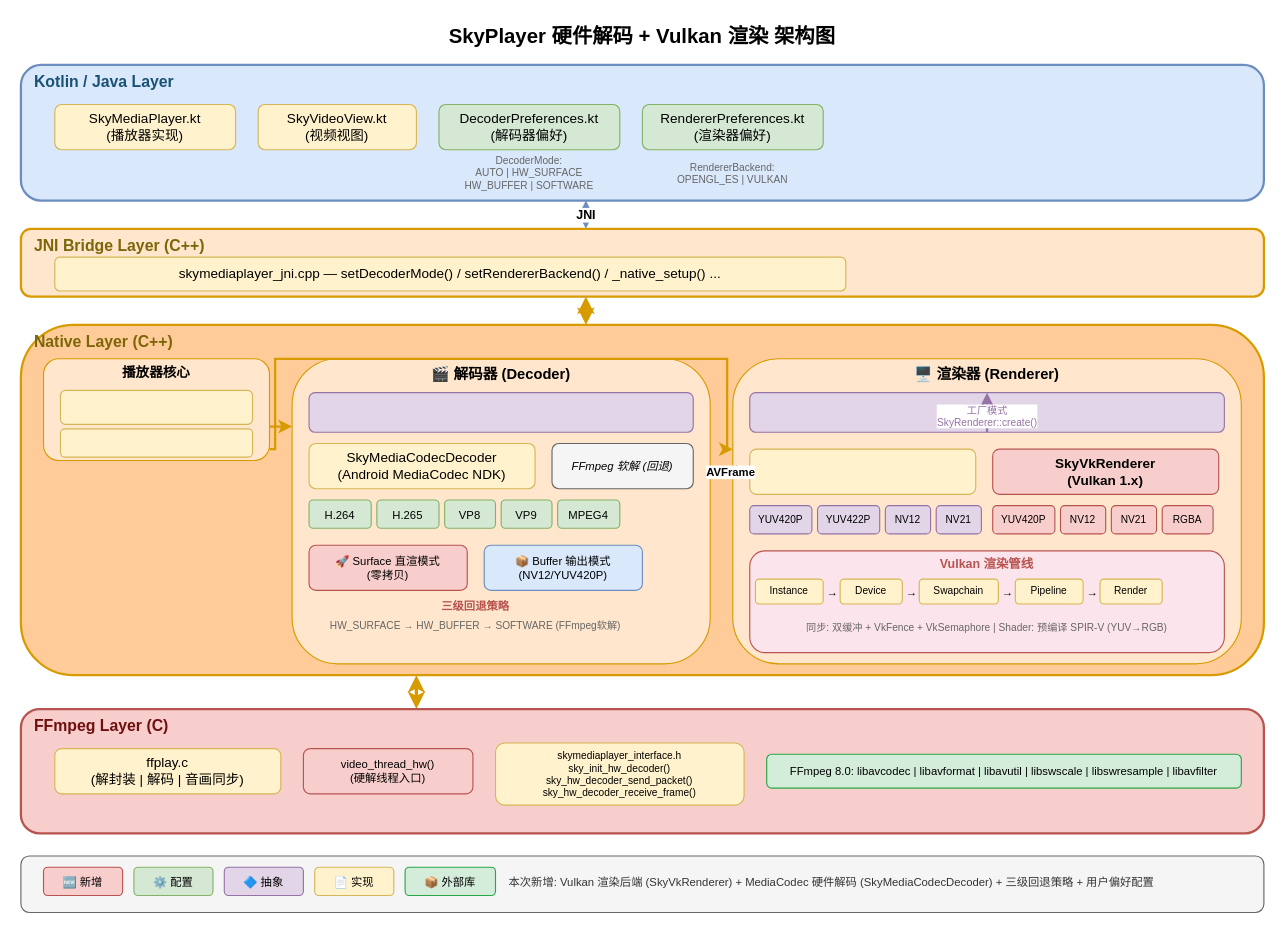
The diagram is 1284 pixels wide and 932 high, and some of its shapes have lost their labels. Each missing label, with the centre of its shape:
SkyDecoderHandler SkyVideoOutHandler: (156,442)
SkyEGL2Renderer (OpenGL ES 2.0): (862,471)
SkyHWDecoder (抽象基类) configure() | sendPacket() | receiveFrame(): (500,412)
skymediaplayer.cpp (SkyPlayer): (156,406)
SkyRenderer (抽象基类) displayImage() | isValid() | terminate(): (986,412)
